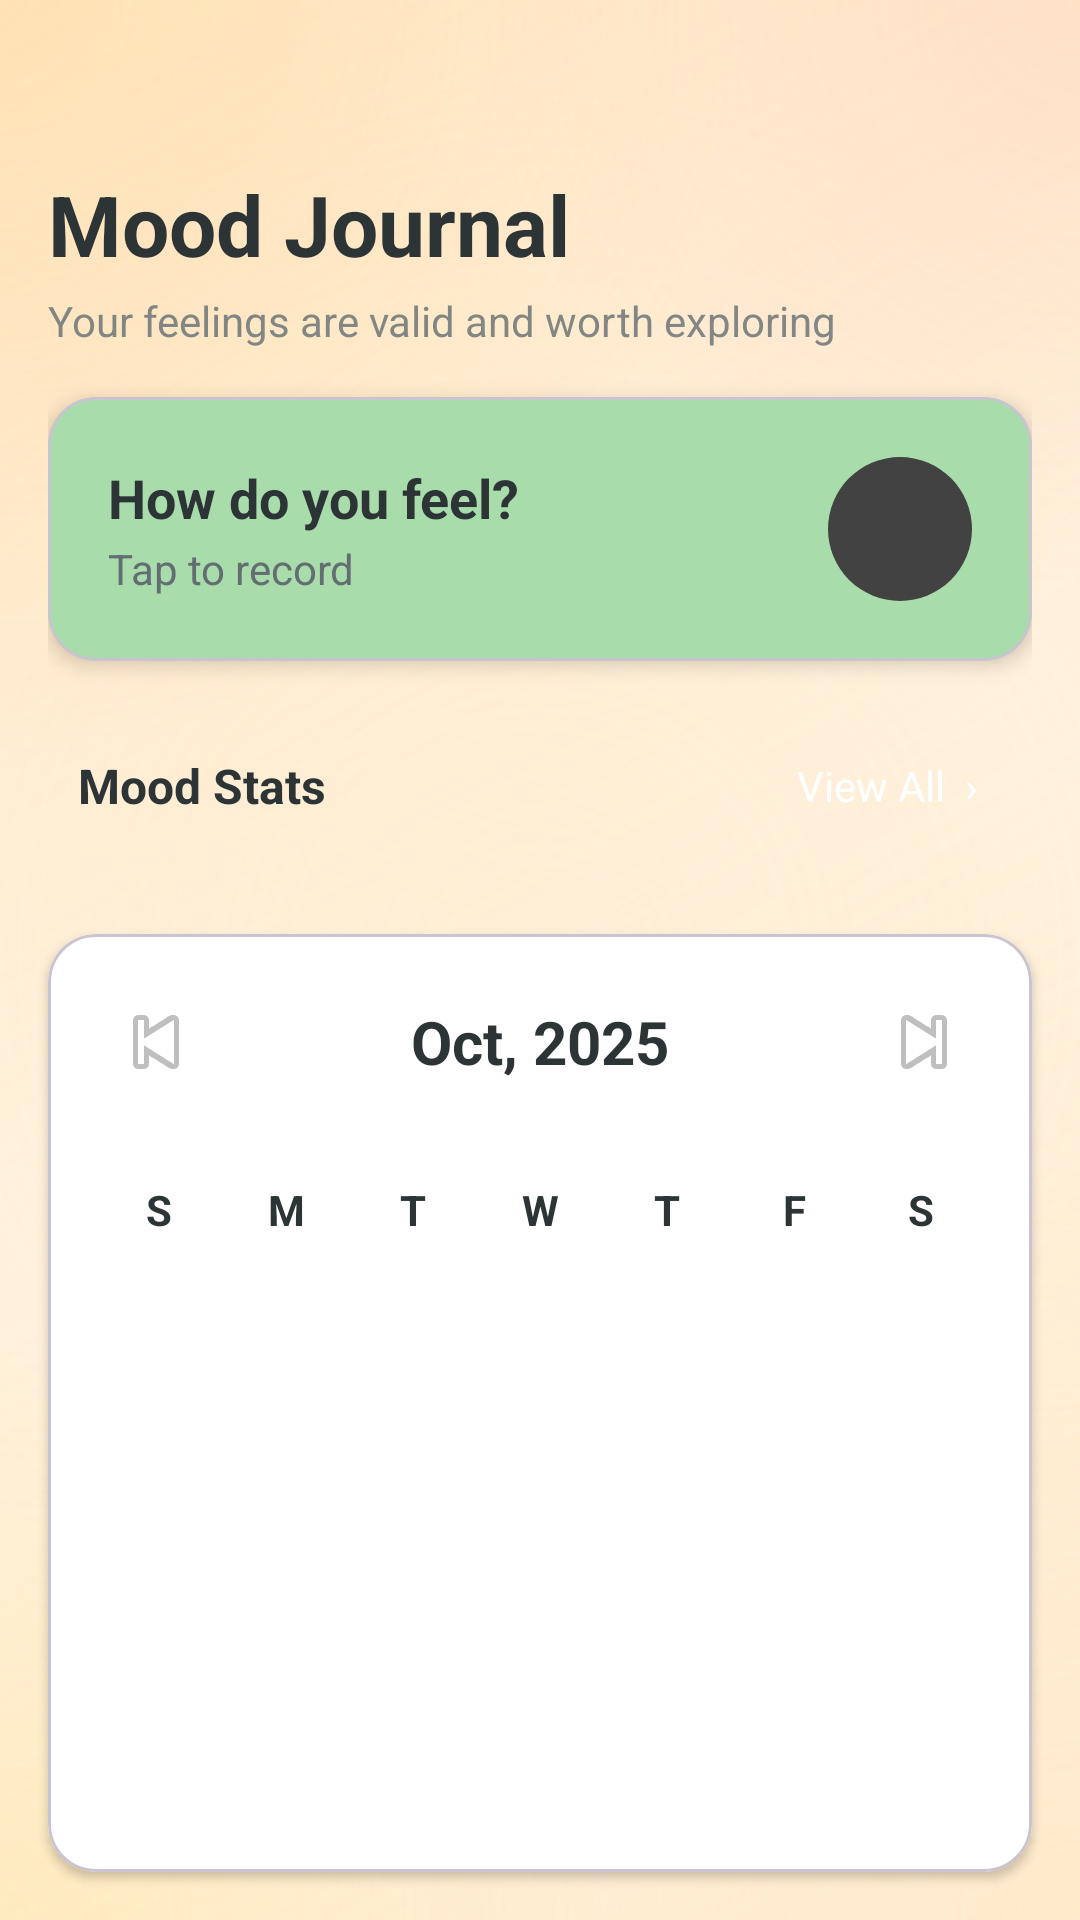

Point at icon controls on the screen. Image size 1080*1920, points as [x,y].
Next Month: [924,1042]
Previous Month: [156,1042]
